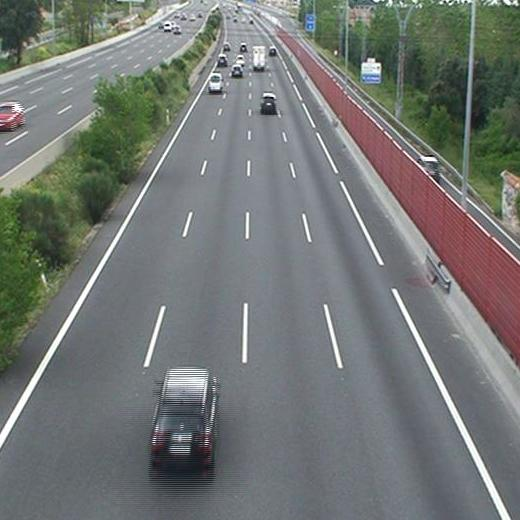car: (150, 374, 215, 471), (260, 92, 276, 114), (231, 66, 244, 78), (216, 54, 228, 67), (234, 54, 244, 65), (221, 42, 230, 52), (269, 48, 277, 57), (240, 43, 246, 53)
van: (208, 72, 222, 91)
